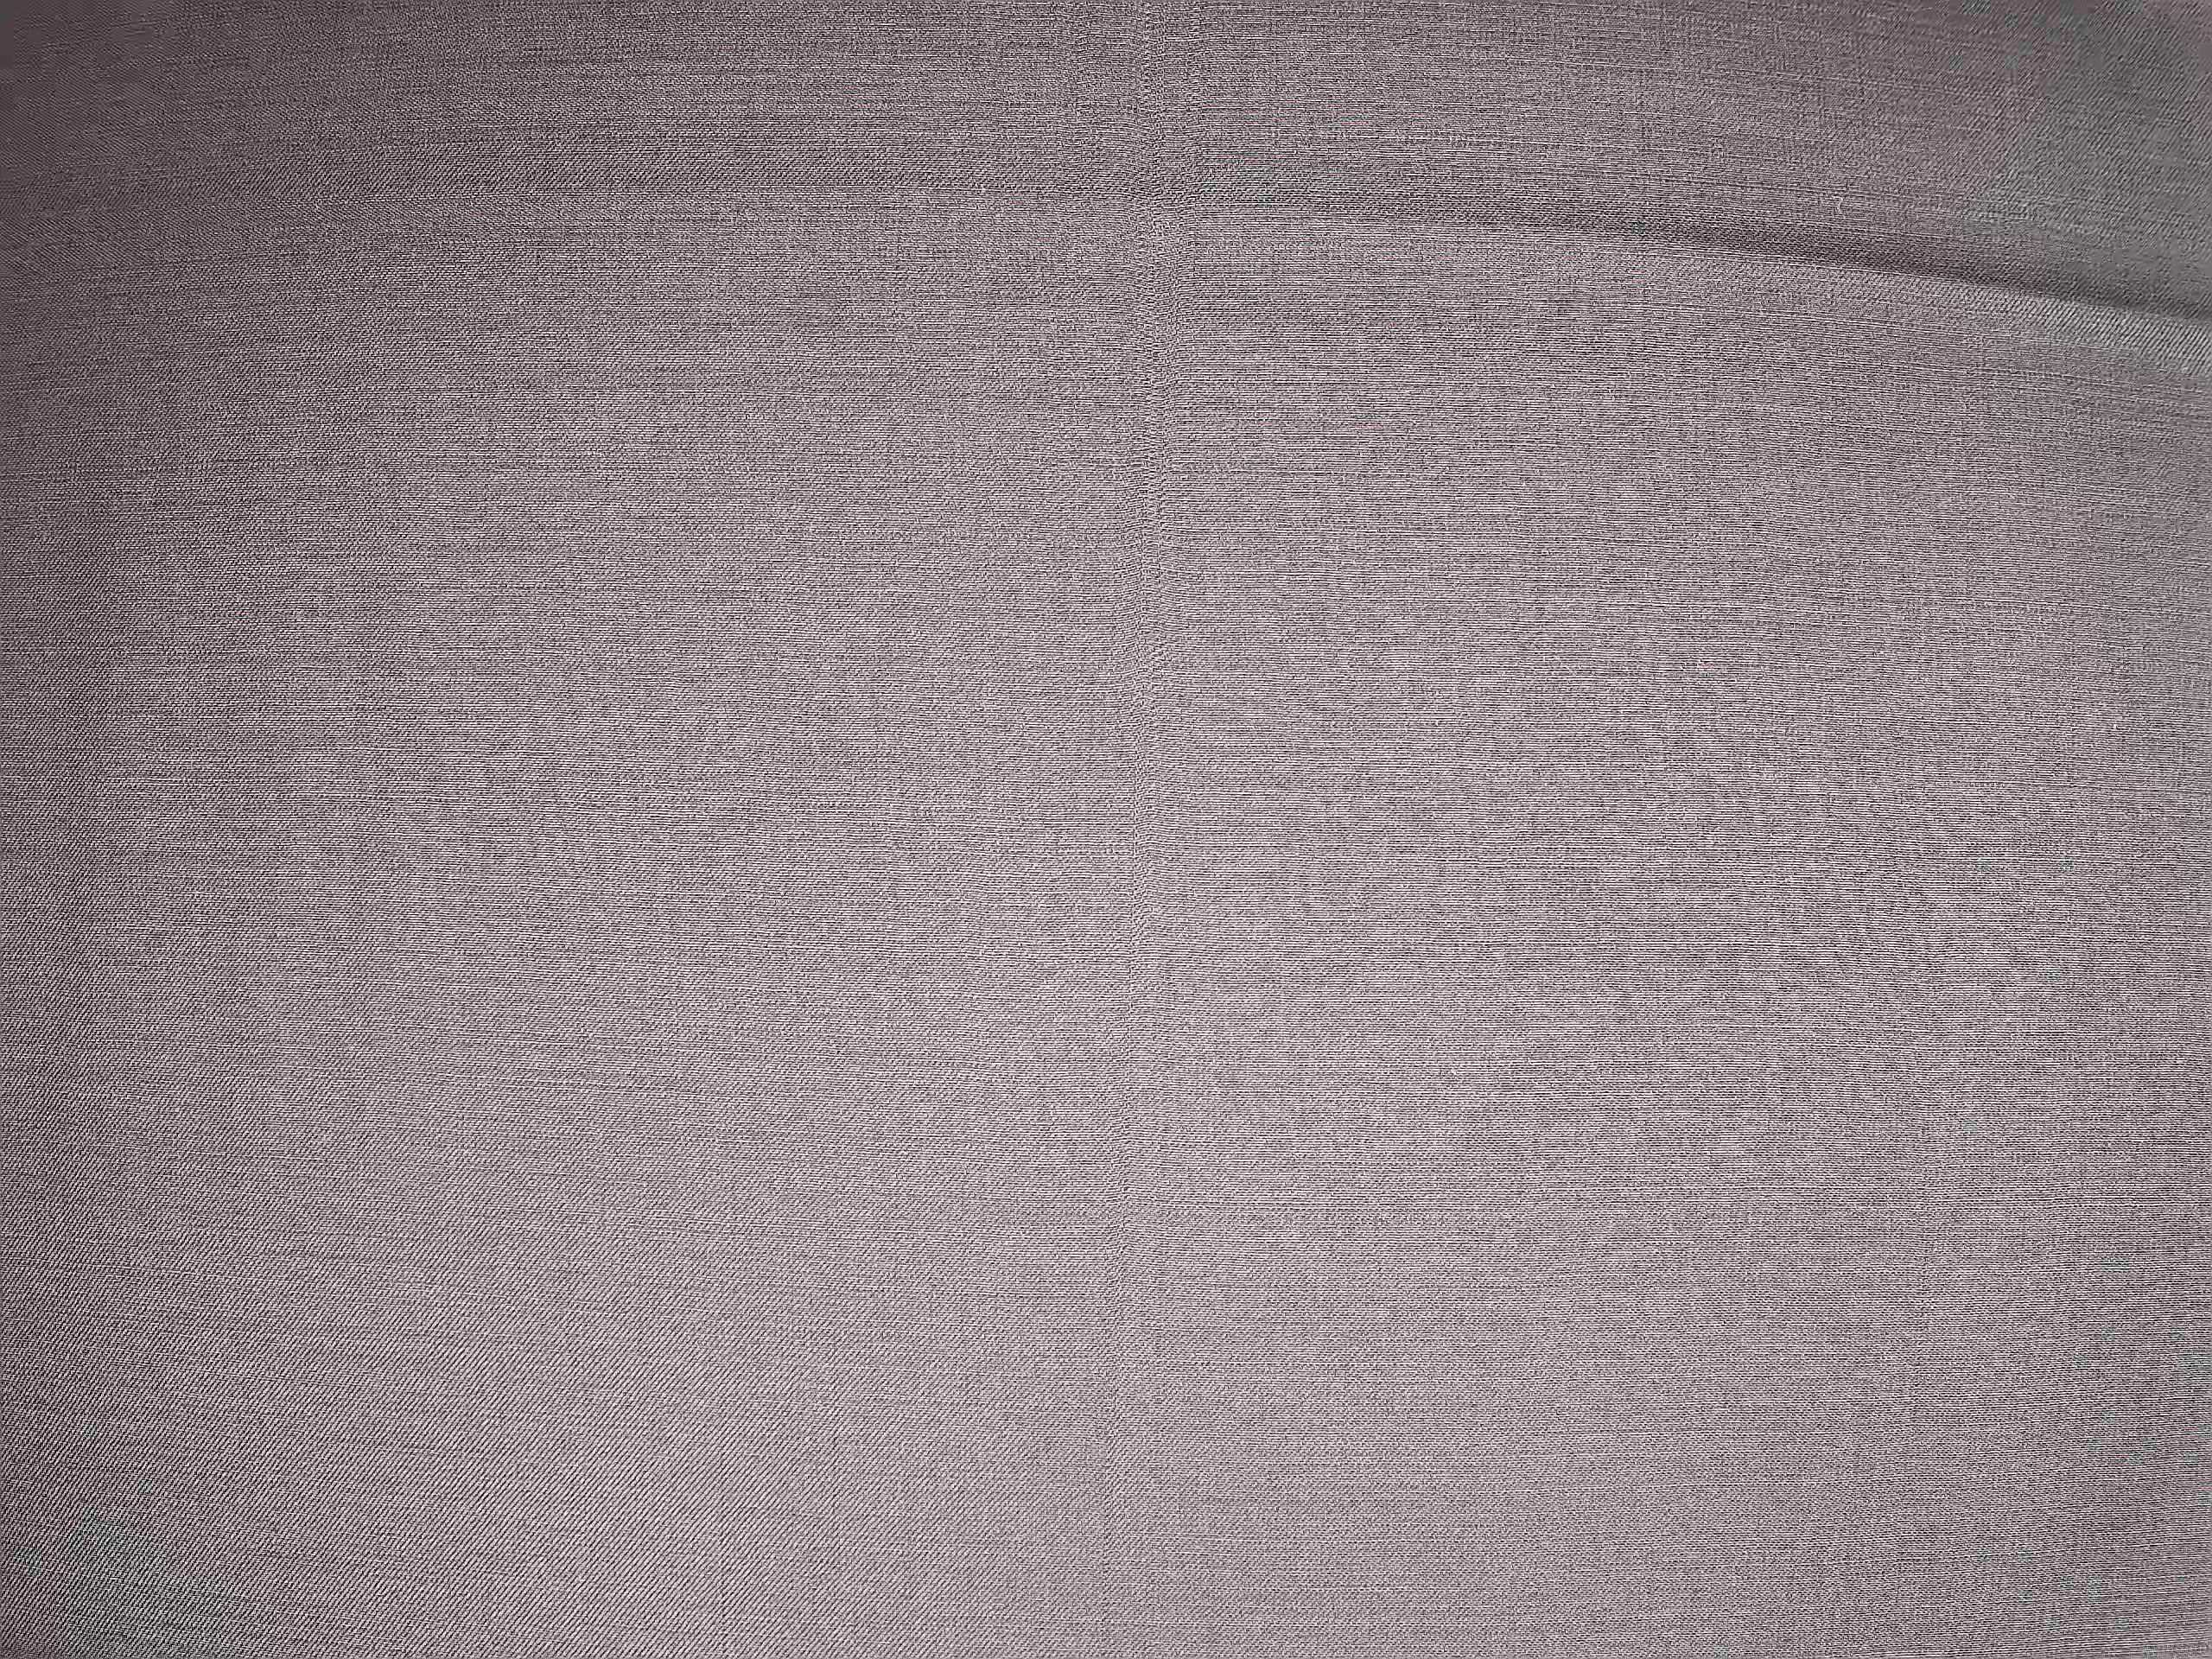hanging-warp: (1097, 10, 1177, 1615)
